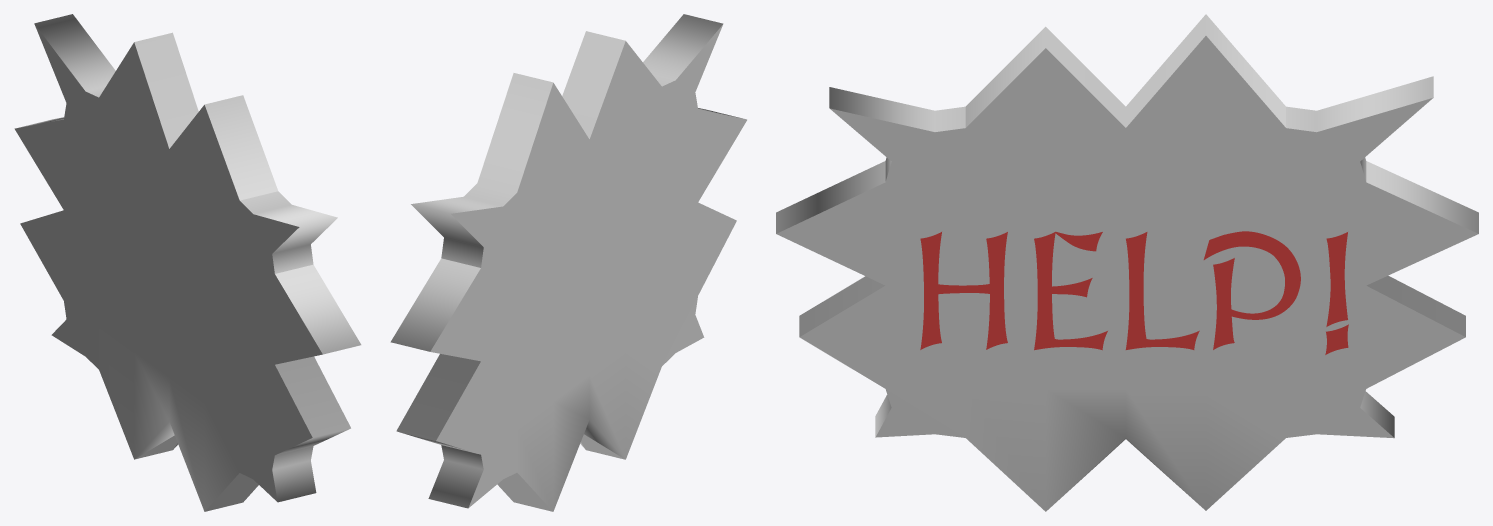
The model's file is HELP_BUBBLE.fbx.
3 views of the same model, side by side, from view 1: azimuth 30°, elevation 25°; view 2: azimuth 150°, elevation 25°; view 3: azimuth 270°, elevation 25° (orthographic). The views are drawn at different scales.
Parts seen in each view (by area): view 1: Bubble; view 2: Bubble; view 3: Bubble, Text.
Part boxes in pixels (bbox=[...]): Bubble: bbox=[14, 14, 361, 511]; Bubble: bbox=[390, 14, 746, 511]; Bubble: bbox=[776, 14, 1478, 511]; Text: bbox=[920, 231, 1348, 354].
Size of the model in its own units: 34.37 by 307 by 411.
